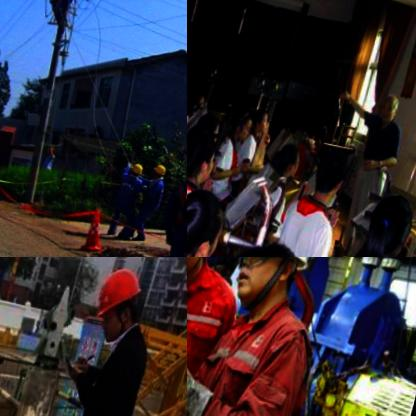head: (359, 181, 416, 257), (187, 180, 235, 257), (208, 228, 316, 257), (307, 145, 355, 201), (187, 129, 219, 186), (269, 138, 306, 182), (230, 105, 257, 145), (250, 102, 274, 140), (200, 109, 226, 143), (378, 90, 403, 122)
helmet: (212, 257, 333, 333), (83, 257, 153, 342), (151, 159, 175, 182), (130, 159, 148, 179)
